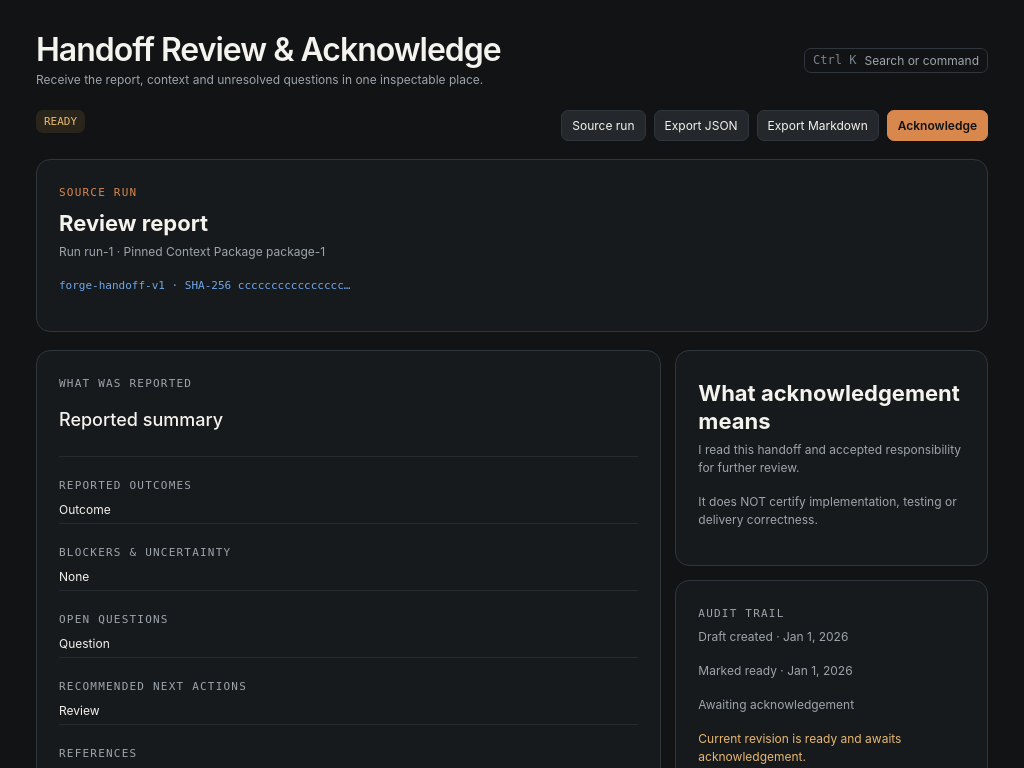
Test: FND-05 Workbench surfaces › acknowledges only the visible published revision
The image size is (1024, 768).
Expected: the heading "Review report" is shown, [59,210,208,236]
What coordinates should you click on to do the following:
click the button "Acknowledge"
I would click on:
 (937, 126)
Its box is [887,110,988,141].
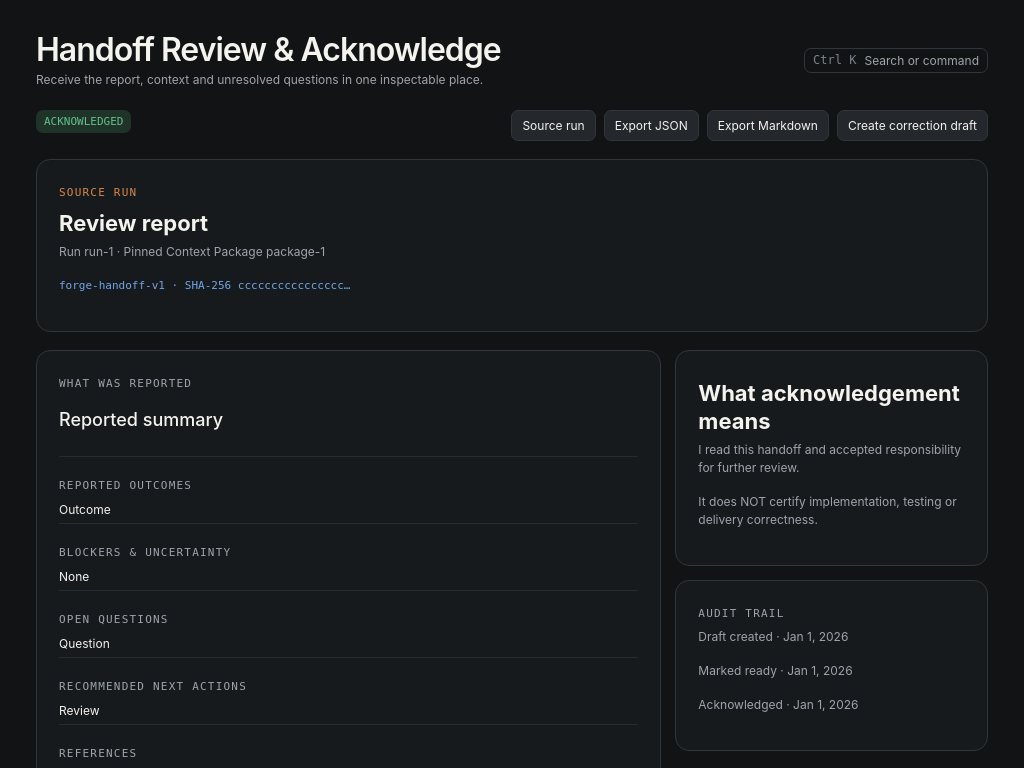
Now the text "ACKNOWLEDGED" is shown, box [36,110,132,133]
